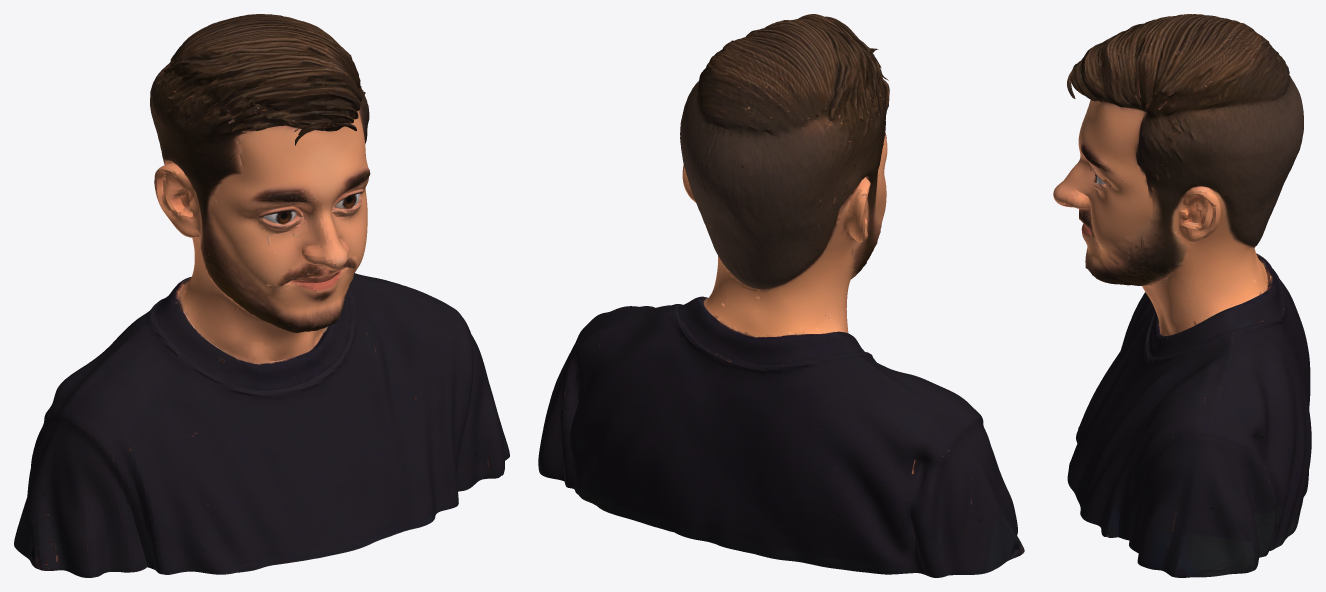
The model's file is steven.glb.
3 renders of one model, left to right at view 1: azimuth 30°, elevation 25°; view 2: azimuth 150°, elevation 25°; view 3: azimuth 270°, elevation 25°, orthographic. The views are drawn at different scales.
Parts seen in each view (by area): view 1: HERO_character; view 2: HERO_character; view 3: HERO_character.
Boxes of the visible parts, bbox=[...] form: HERO_character: bbox=[14, 14, 509, 577]; HERO_character: bbox=[538, 14, 1024, 577]; HERO_character: bbox=[1053, 14, 1311, 577].
Bounding box in the file's own units: 0.5126 × 0.4996 × 0.2618.
Materials: 1 (1 with a texture image).
